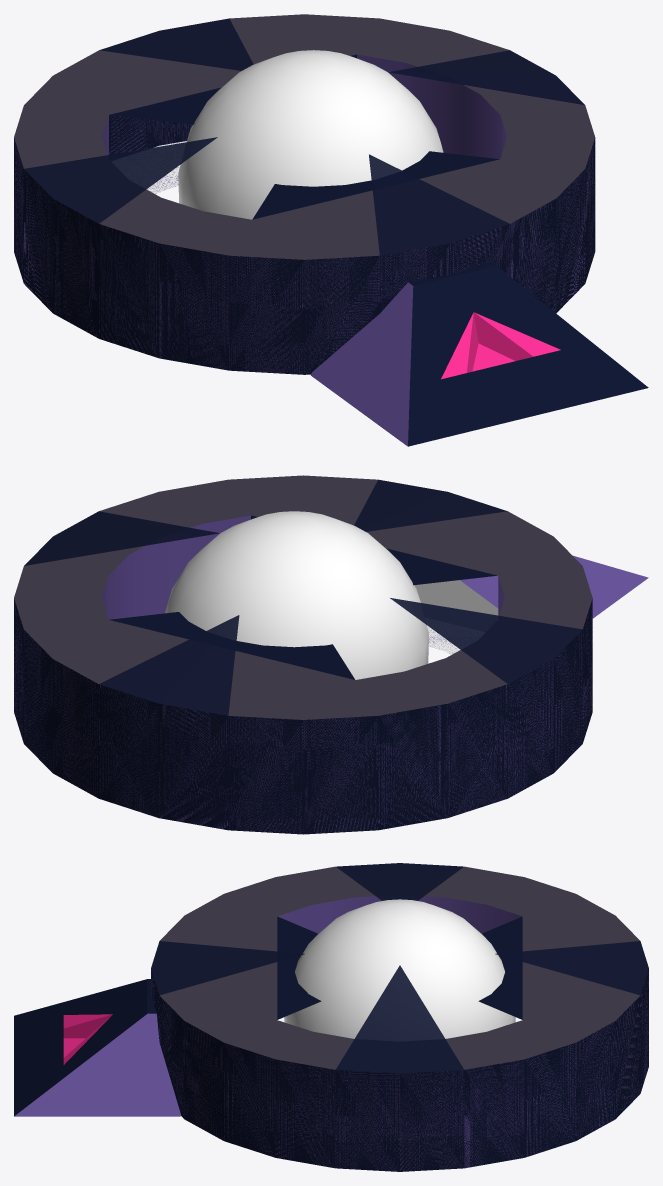
Rendered from turret_2.dae.
3 views of the same model, one above another, from view 1: azimuth 30°, elevation 25°; view 2: azimuth 150°, elevation 25°; view 3: azimuth 270°, elevation 25° (orthographic). The views are drawn at different scales.
Parts seen in each view (by area): view 1: SketchUp (×13); view 2: SketchUp (×12); view 3: SketchUp (×13).
Boxes of the visible parts, x1,y1,x2,y2 form: SketchUp (×13): [14, 14, 648, 446]; SketchUp (×12): [14, 475, 648, 834]; SketchUp (×13): [14, 863, 648, 1171].
Bounding box in the file's own units: 112 × 143 × 52.02.
